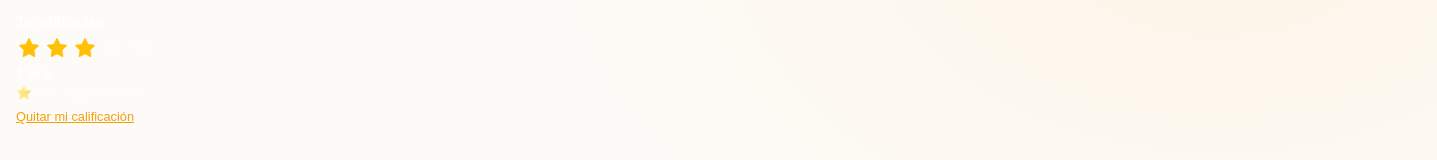
Test: RatingWidget Component › Authenticated with an existing rating › DELETEs on remove and refreshes stats
The width and height of the screenshot is (1437, 160).
Click the button "Quitar mi calificación".
click(75, 117)  # box x1=16 y1=109 x2=134 y2=124
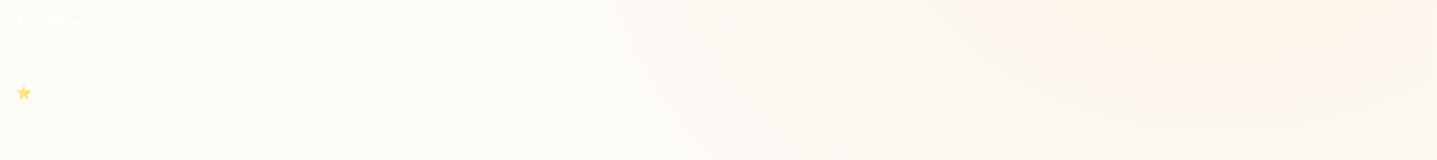
Expected: the text "⭐ 3.5 · 3 calificaciones" is shown, x1=16 y1=87 x2=154 y2=99
Expected: the button "Quitar mi calificación" is gone
